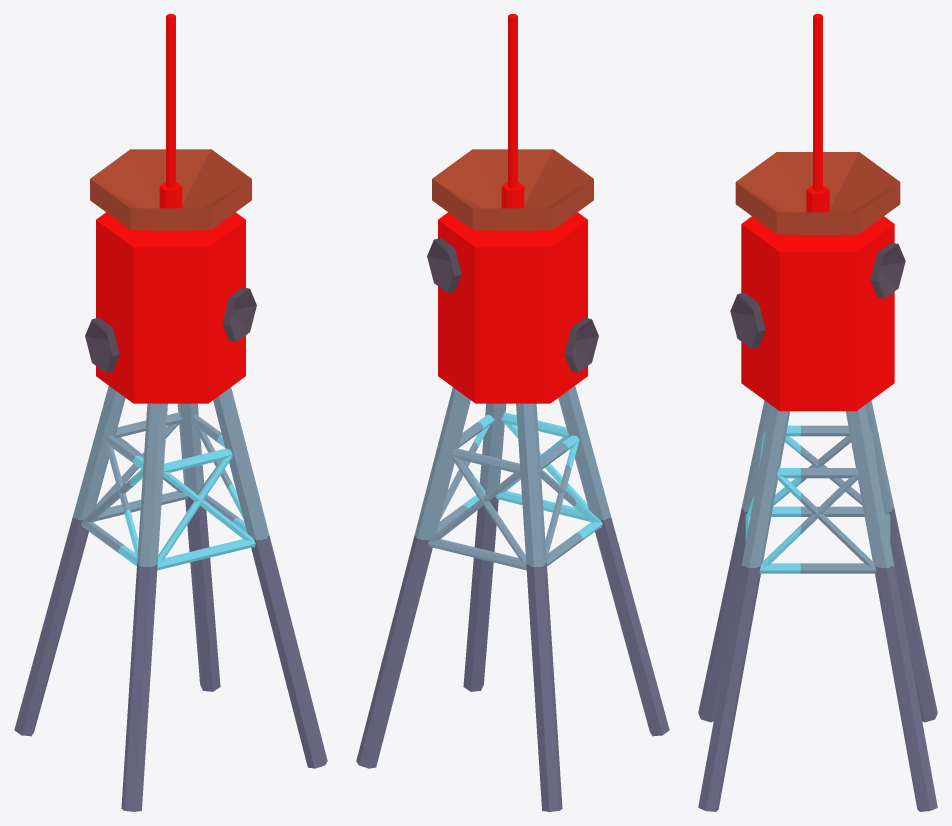
Rendered from TowerRedModel.glb.
3 views of the same model, side by side, from view 1: azimuth 30°, elevation 25°; view 2: azimuth 150°, elevation 25°; view 3: azimuth 270°, elevation 25° (orthographic). The views are drawn at different scales.
Visible parts, largest first — view 1: Cylinder.005; view 2: Cylinder.005; view 3: Cylinder.005.
Part boxes in pixels (box(x1,y1,x2,y2)): Cylinder.005: box(14, 14, 327, 811); Cylinder.005: box(356, 14, 669, 811); Cylinder.005: box(698, 14, 937, 811).
Bounding box in the file's own units: 4.37 × 15.08 × 4.37.
1 material, 1 textured.
